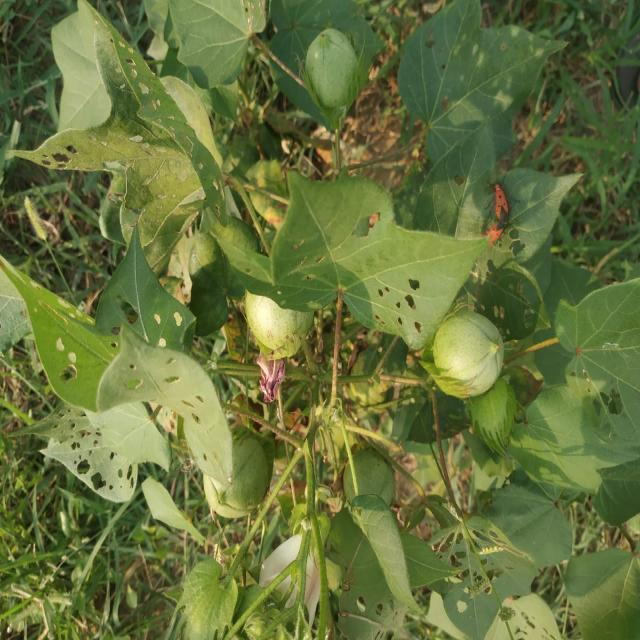Cotton Bud: (172, 560, 236, 640)
Early Boll: (423, 302, 506, 402), (246, 284, 321, 363), (200, 438, 272, 517), (301, 26, 369, 109)
